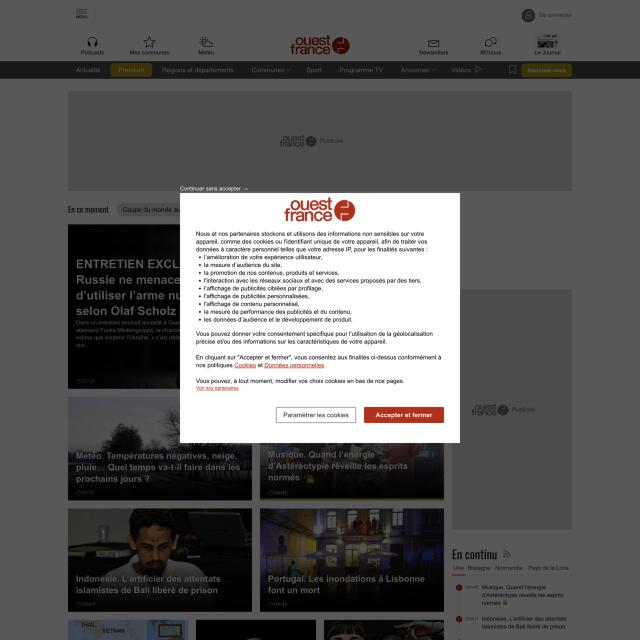CheckBox: (276, 406, 356, 425), (364, 406, 445, 424), (179, 185, 248, 192), (264, 362, 324, 370), (195, 386, 240, 392), (234, 362, 257, 369)
Input field: (195, 231, 438, 348)
data feed: (376, 410, 433, 420), (283, 412, 350, 418)
date picker: (282, 198, 359, 228)
header: (179, 185, 460, 443)
